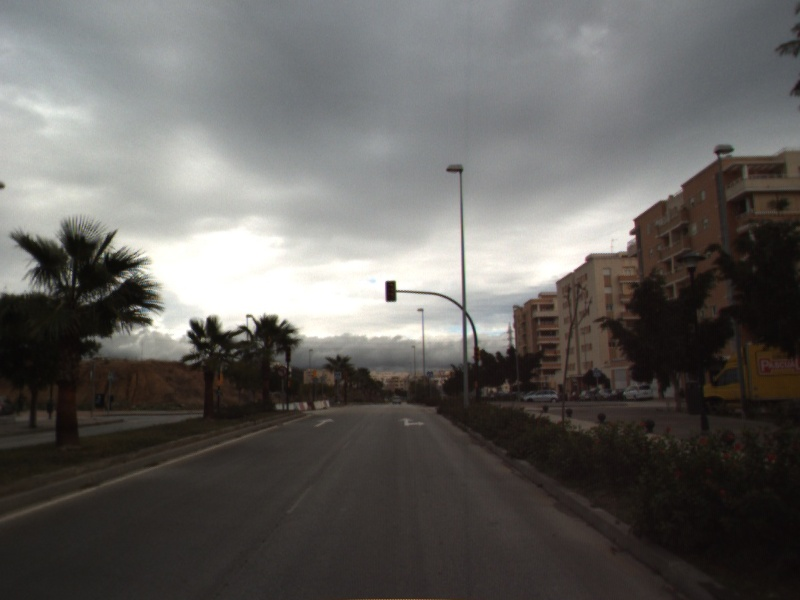STRAIGHT: (313, 416, 337, 429)
STRAIGHT_RIGHT: (396, 415, 426, 428)
